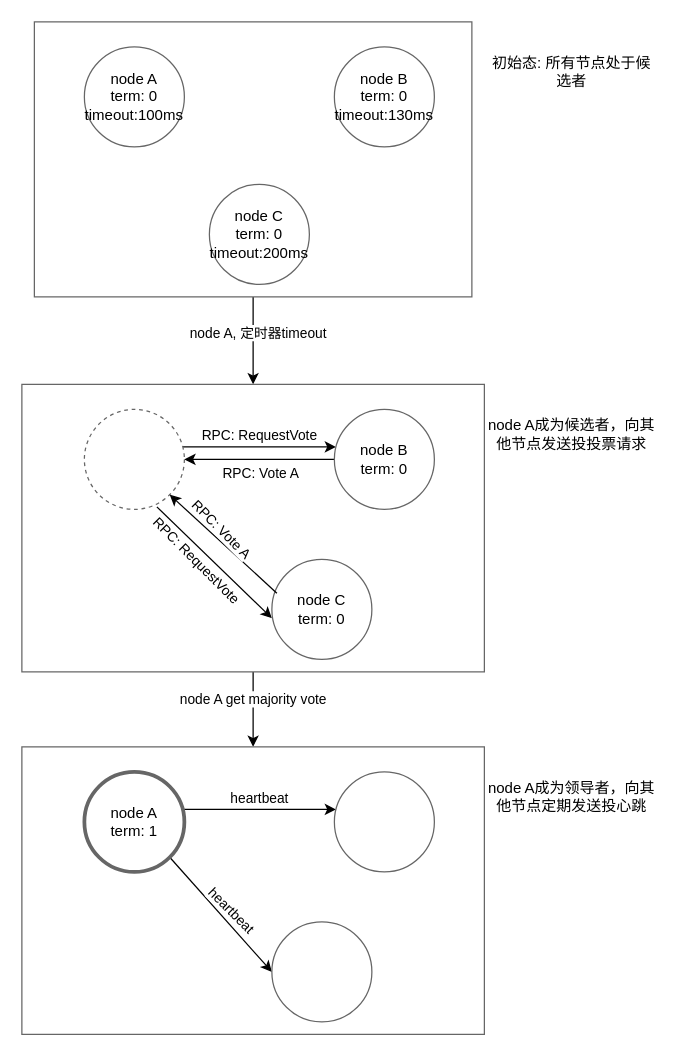
Image size: 681x1056. Some labels were removed from this diagram. The centre of each missing label's shape, as x and y in pixels:
"node A term: 0" belongs at [133,458].
"node B term: 1 timeout: 150ms" belongs at [383,821].
"node C term: 1 timeout:130ms" belongs at [321,971].
